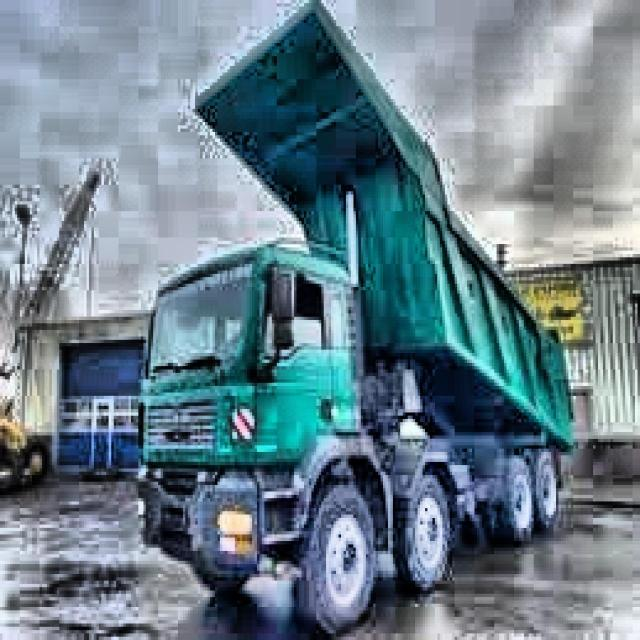dump_truck: (126, 3, 578, 623)
